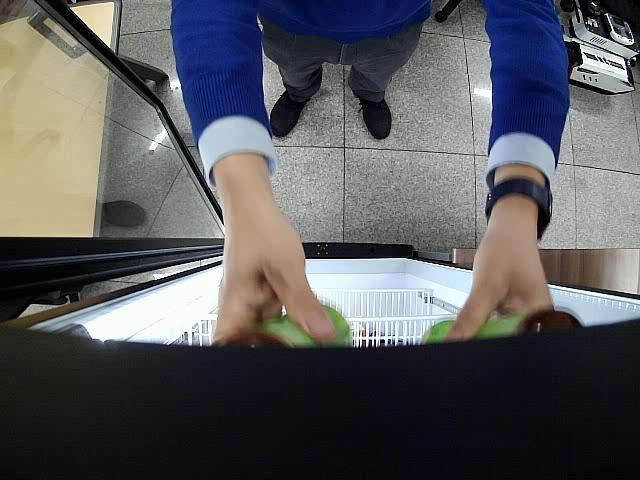19_17cha: (214, 300, 354, 348), (425, 308, 584, 344)
